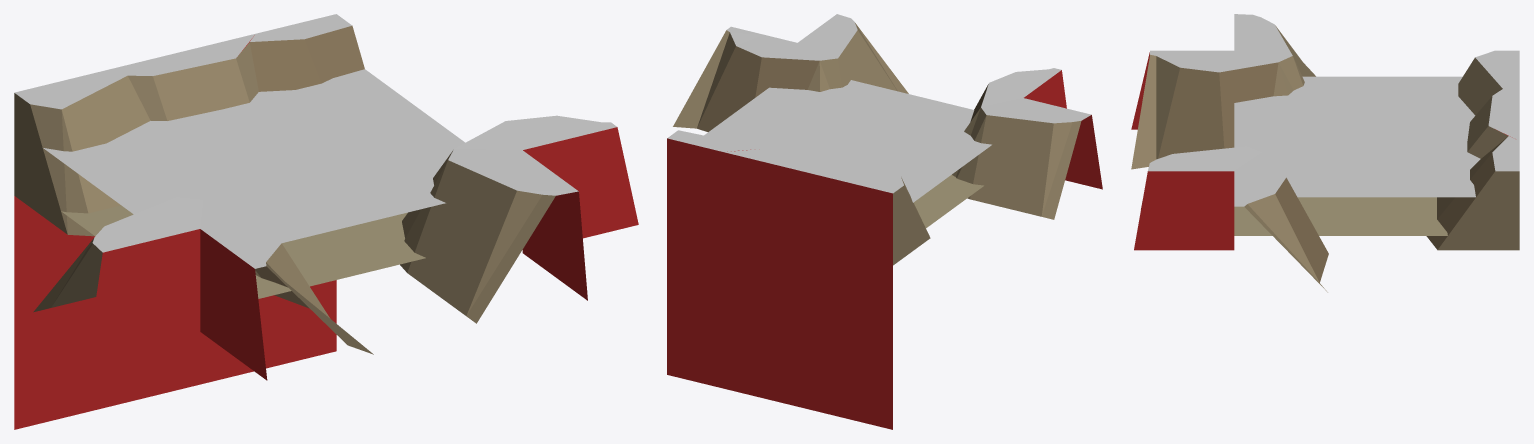
Rendered from Model_Tile_River_3WLTR_LRG.fbx.
The picture shows the model from 3 angles, left to right: view 1: azimuth 30°, elevation 25°; view 2: azimuth 150°, elevation 25°; view 3: azimuth 270°, elevation 25°; orthographic projection. The views are drawn at different scales.
Visible parts, largest first — view 1: Model_Frost_Rivers9; view 2: Model_Frost_Rivers9; view 3: Model_Frost_Rivers9.
Boxes of the visible parts, <box> form: Model_Frost_Rivers9: <box>14,14,638,429</box>; Model_Frost_Rivers9: <box>667,14,1102,429</box>; Model_Frost_Rivers9: <box>1131,14,1519,292</box>.
Bounding box in the file's own units: 342 × 200 × 272.
